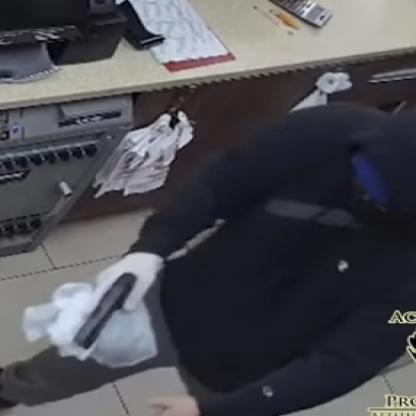weapon: (73, 269, 141, 350)
